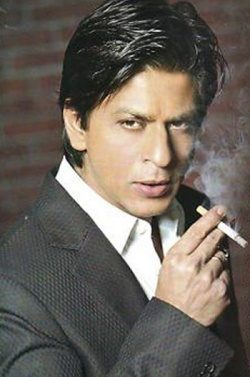cigarette: (189, 199, 250, 254)
